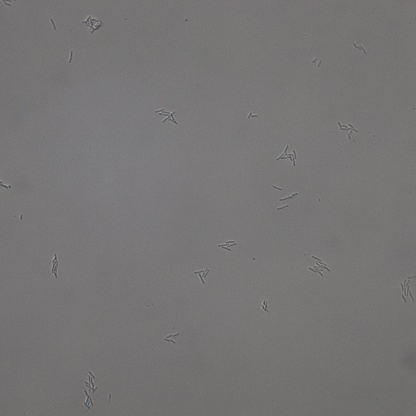R(colony): (400, 276, 416, 308), (308, 256, 330, 278), (276, 145, 297, 166), (338, 120, 358, 139), (156, 108, 178, 125), (82, 16, 102, 33), (84, 370, 99, 392), (81, 390, 94, 412), (218, 238, 238, 251), (194, 268, 210, 284), (51, 253, 59, 278), (163, 333, 178, 345), (352, 43, 367, 54), (312, 58, 322, 68)
